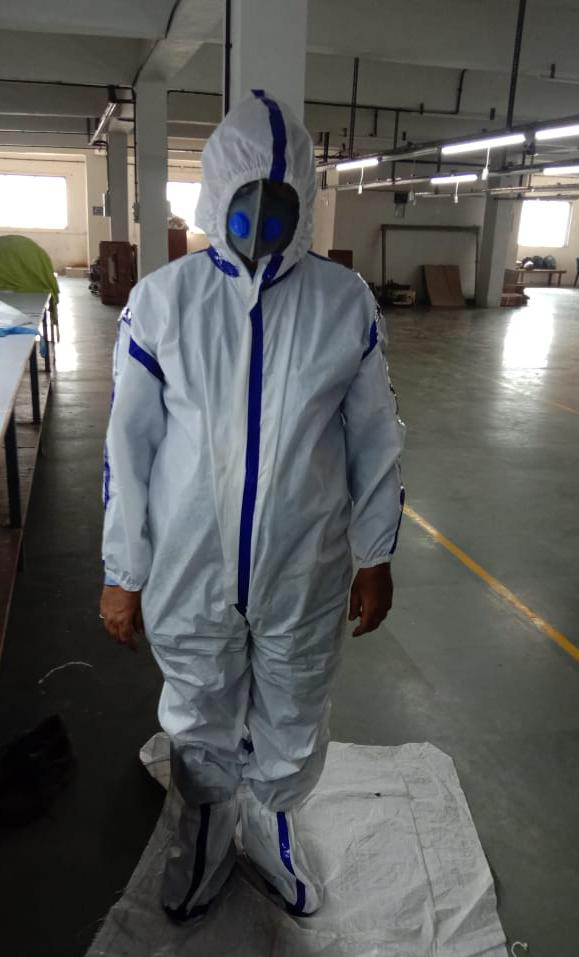Coverall: (93, 88, 406, 859)
